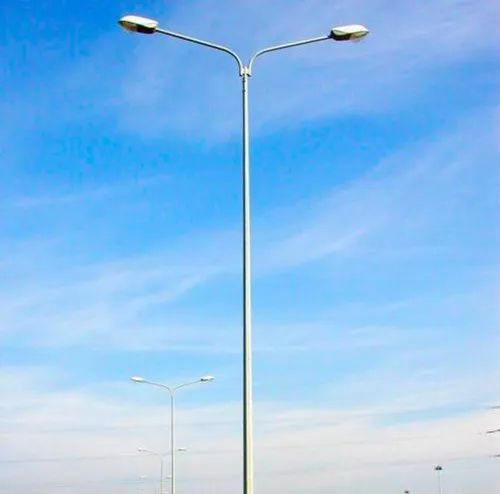light_pole: (234, 58, 261, 494)
